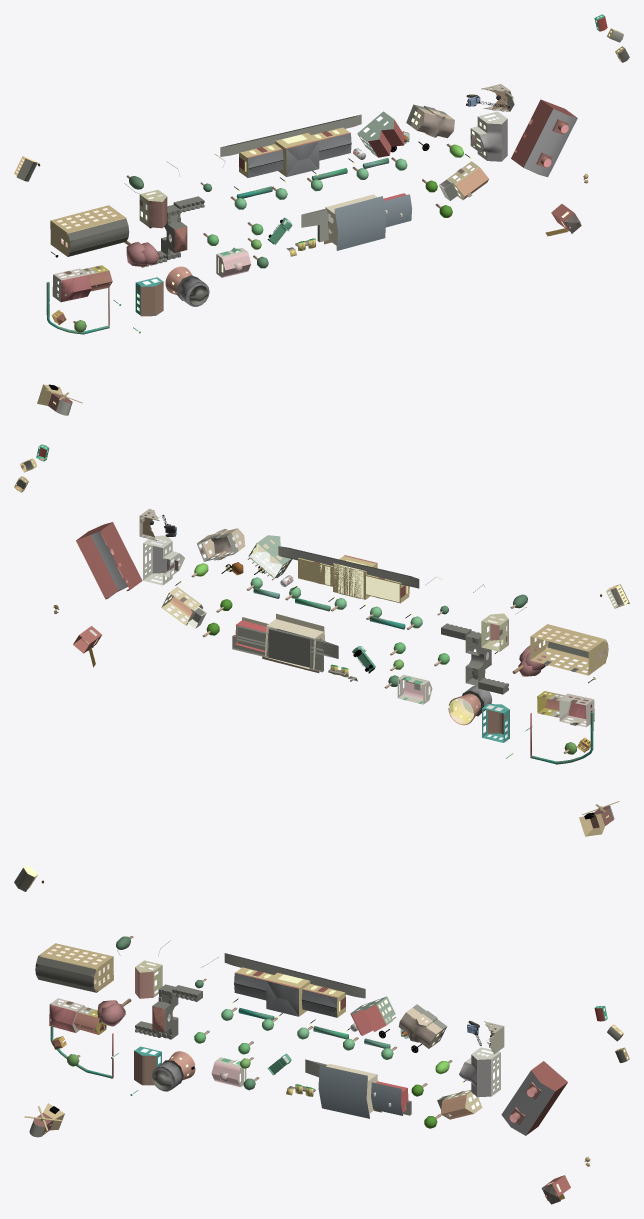
The model's file is background-3d.gltf.
The picture shows the model from 3 angles, top to bottom: view 1: azimuth 30°, elevation 25°; view 2: azimuth 150°, elevation 25°; view 3: azimuth 330°, elevation 25°; orthographic projection.
Visible parts, largest first — view 1: asset9_copy12, Cube42 (×2), Cube40, Cube41_sep44, Cube70 (×2), Cube47, Cube50, Cube52_sep53, Cylinder37, Cube51, Cube48, Cube43 (+3 smaller); view 2: Cube42 (×2), Cube40, asset9_copy12, Cube41_sep44, Cube70 (×2), Cube47, Cube50, Cube52_sep53, Cylinder37, Cube51, Cube48, Cube43 (+2 smaller); view 3: asset9_copy12, Cube42 (×2), Cube40, Cube41_sep44, Cube70 (×2), Cube50, Cube47, Cylinder37, Cube52_sep53, Cube43, Cube51, Cube48 (+4 smaller).
Boxes of the visible parts, box(x1,y1,x2,y2) form: asset9_copy12: box(220, 114, 361, 177); Cube42 (×2): box(141, 99, 577, 267); Cube40: box(301, 193, 412, 250); Cube41_sep44: box(50, 205, 129, 256); Cube70 (×2): box(37, 104, 454, 415); Cube47: box(52, 265, 112, 302); Cube50: box(470, 111, 507, 161); Cube52_sep53: box(357, 111, 404, 157); Cylinder37: box(165, 266, 209, 306); Cube51: box(439, 161, 488, 200); Cube48: box(135, 277, 163, 316); Cube43: box(139, 190, 167, 228); Cube42 (×2): box(76, 522, 508, 694); Cube40: box(232, 613, 338, 672); asset9_copy12: box(278, 546, 419, 603); Cube41_sep44: box(530, 624, 608, 675); Cube70 (×2): box(197, 528, 619, 836); Cube47: box(537, 691, 594, 727); Cube50: box(143, 535, 184, 585); Cube52_sep53: box(248, 535, 292, 580); Cylinder37: box(448, 685, 492, 725); Cube51: box(161, 587, 206, 628); Cube48: box(482, 704, 509, 742); Cube43: box(481, 613, 508, 651); asset9_copy12: box(224, 953, 365, 1017); Cube42 (×2): box(135, 984, 567, 1135); Cube40: box(305, 1059, 411, 1118); Cube41_sep44: box(35, 943, 113, 992); Cube70 (×2): box(24, 1004, 447, 1137); Cube50: box(459, 1047, 500, 1097); Cube47: box(49, 998, 106, 1034); Cylinder37: box(151, 1051, 195, 1091); Cube52_sep53: box(350, 996, 396, 1035); Cube43: box(135, 960, 162, 998); Cube51: box(437, 1090, 482, 1119); Cube48: box(134, 1046, 161, 1085).
Size of what is drawn, in the model's own units: 0.9214 by 0.37 by 0.0719.
Materials: 49 (21 with a texture image).
